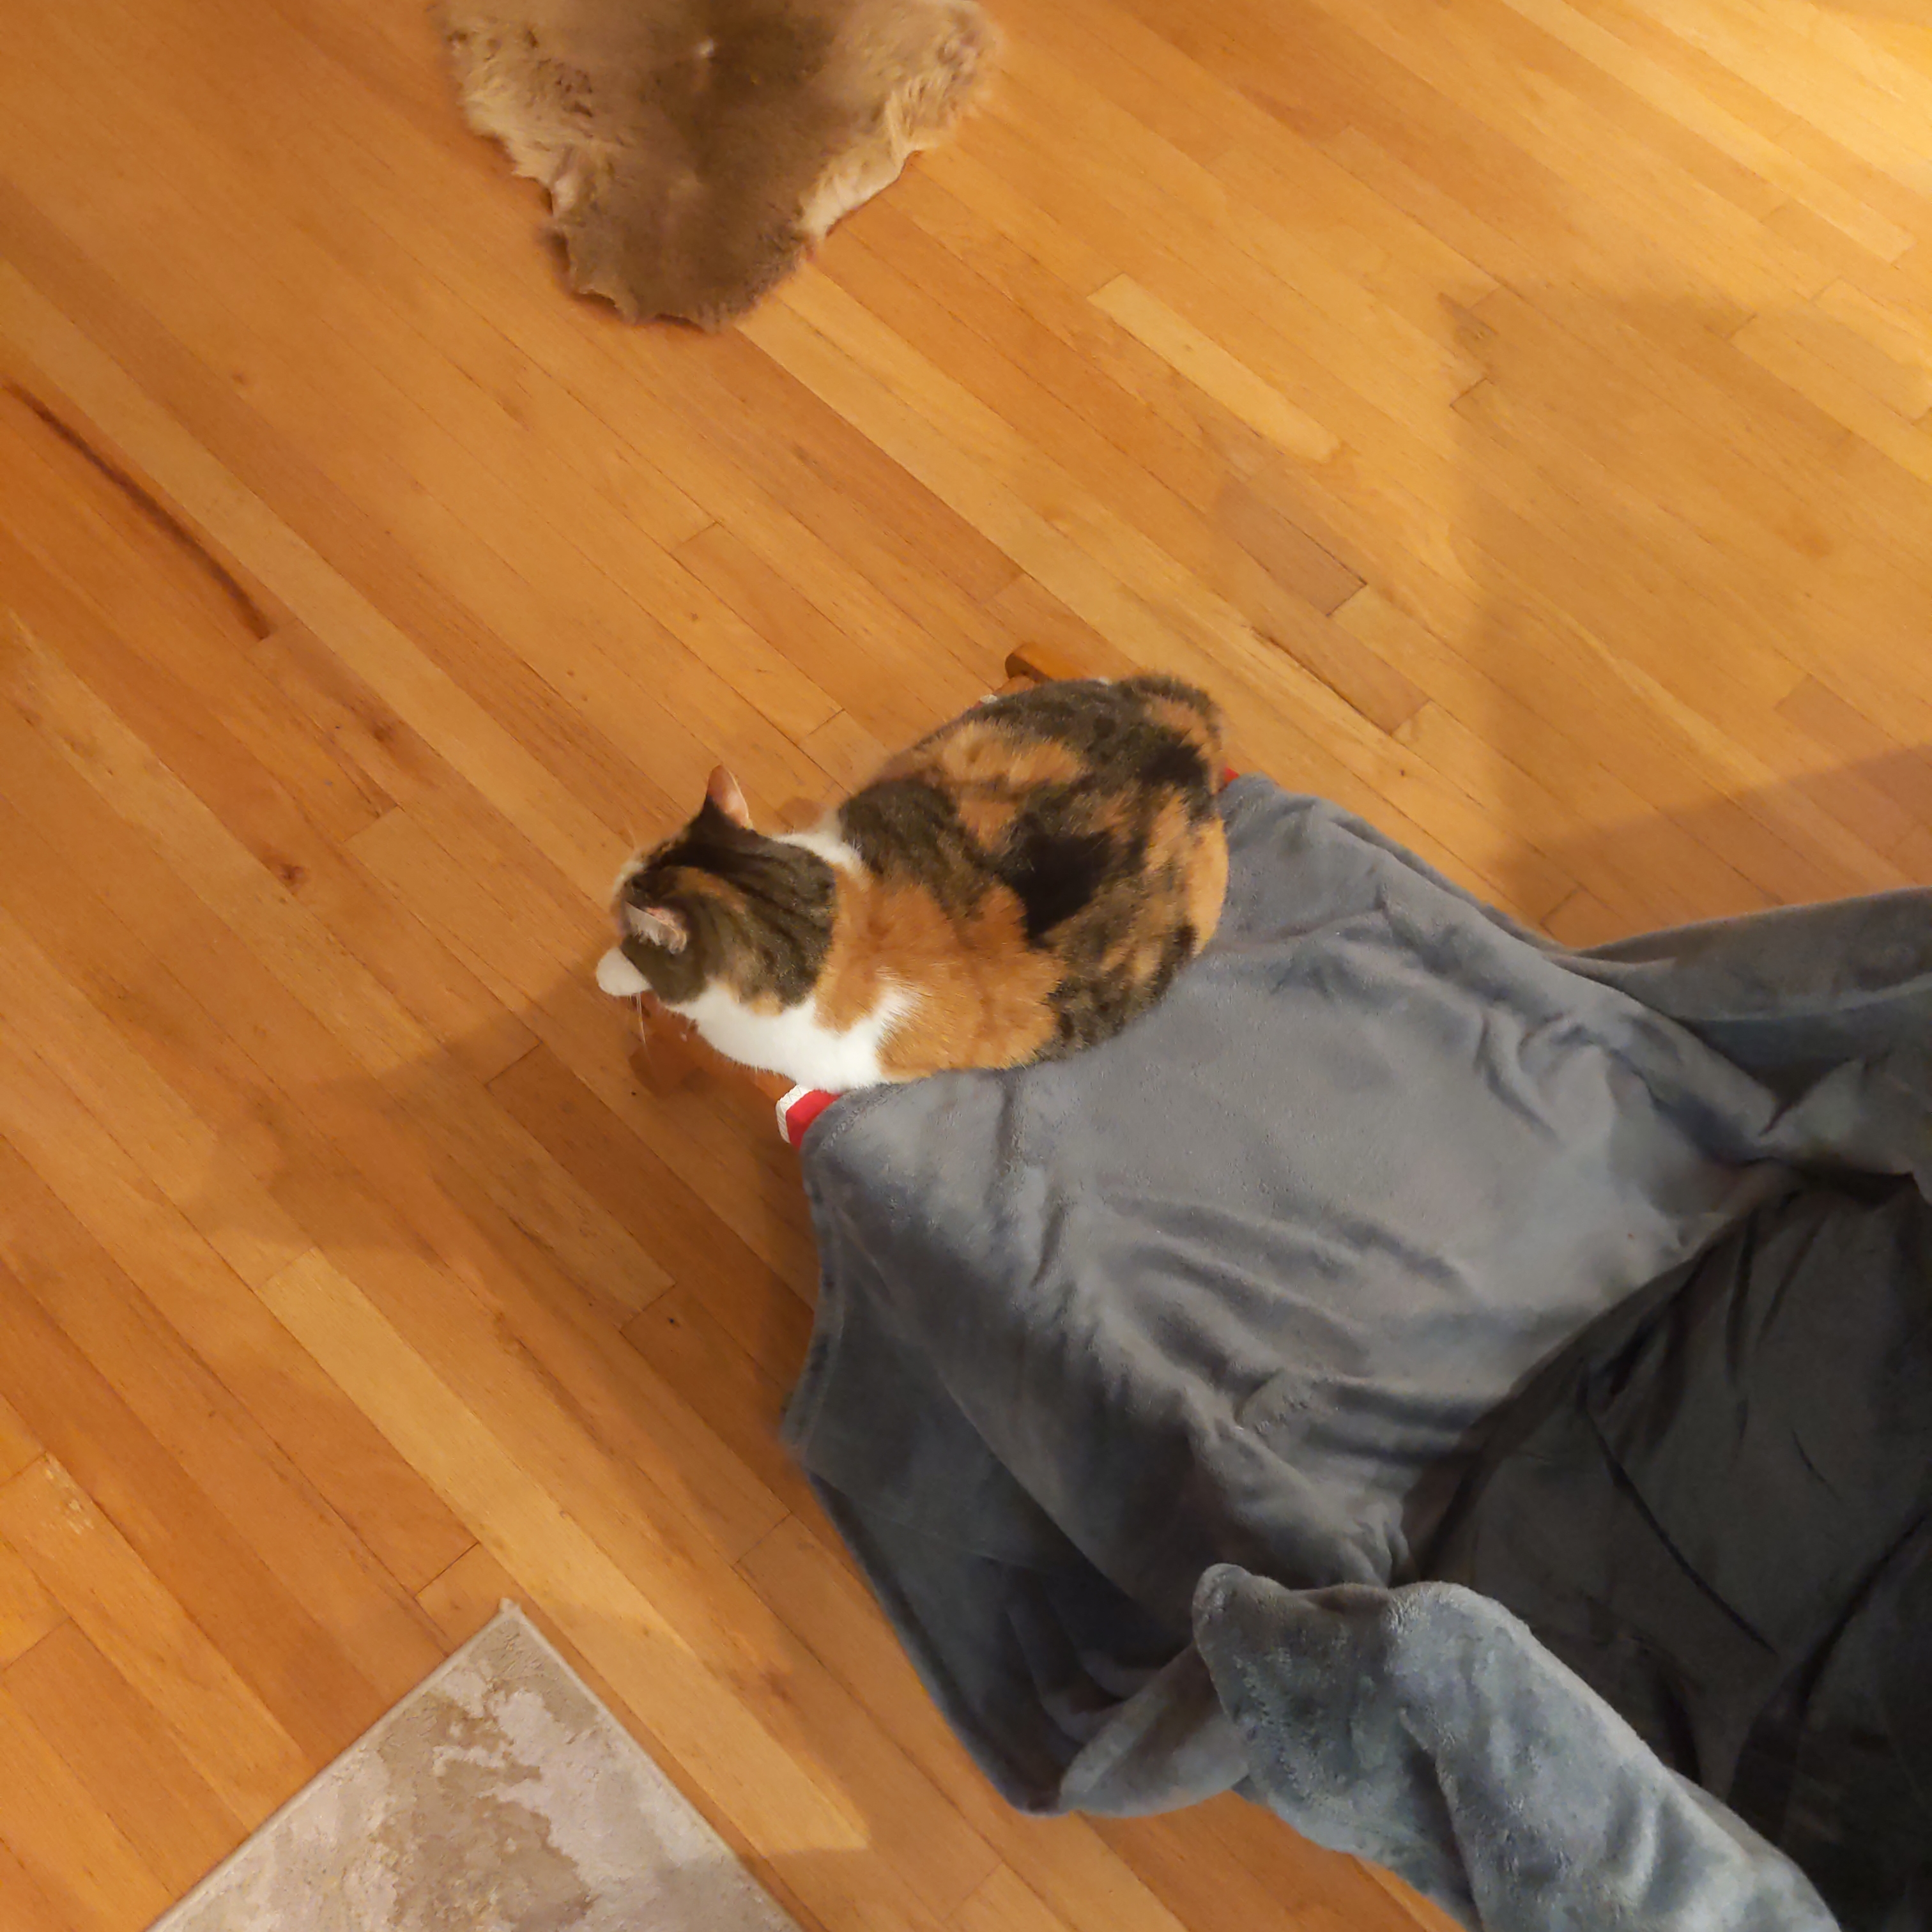Calico: (596, 676, 1231, 1095)
